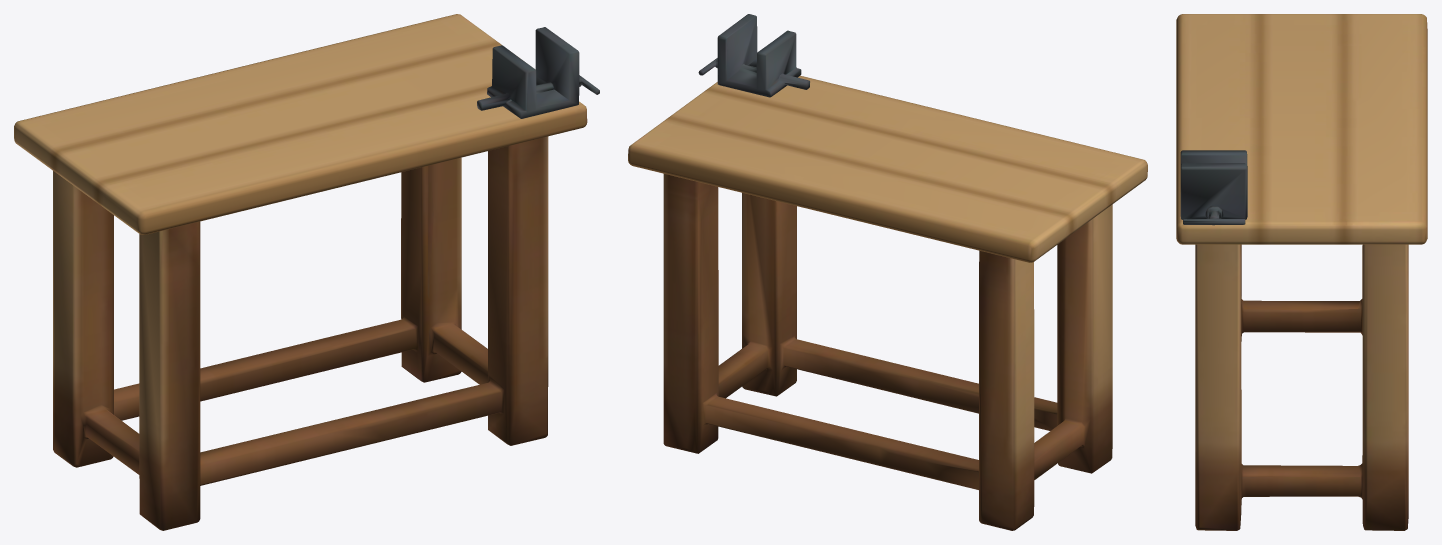
File: workbench.glb
3 renders of one model, left to right at view 1: azimuth 30°, elevation 25°; view 2: azimuth 150°, elevation 25°; view 3: azimuth 270°, elevation 25°, orthographic. The views are drawn at different scales.
Parts seen in each view (by area): view 1: top; view 2: top; view 3: top.
Boxes of the visible parts, x1,y1,x2,y2 form: top: [14, 14, 599, 530]; top: [628, 14, 1147, 530]; top: [1176, 14, 1427, 530].
Size of the model in its own units: 1.24 by 0.9897 by 0.5999.
1 material, 1 textured.
